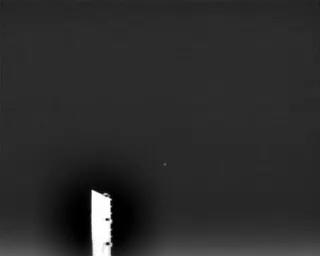BIRD: (161, 160, 169, 169)
